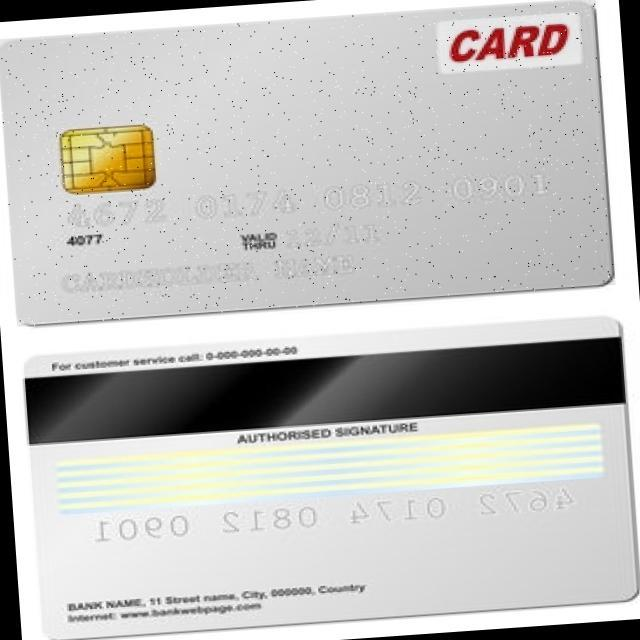payment_card: (8, 315, 638, 639), (0, 0, 616, 326)
